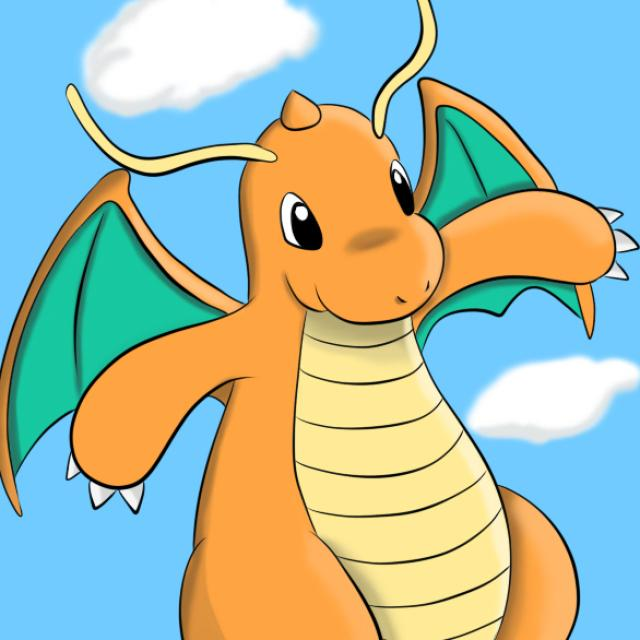Dragonite: (60, 88, 593, 640)
